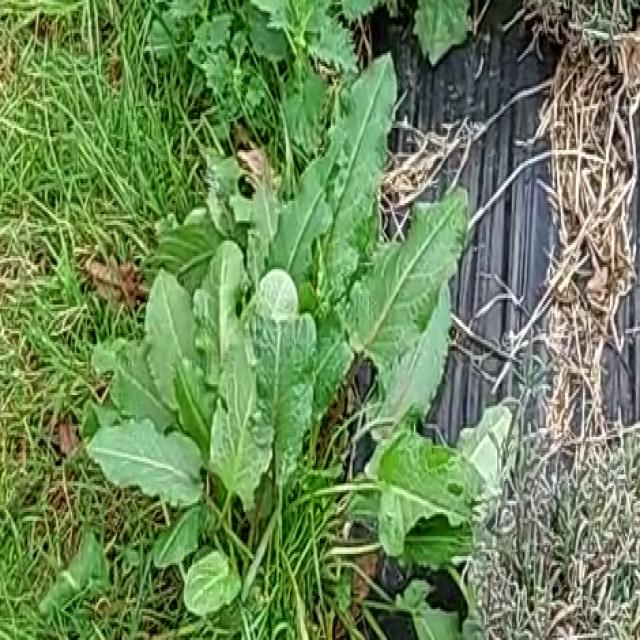organic waste: (110, 80, 453, 580)
